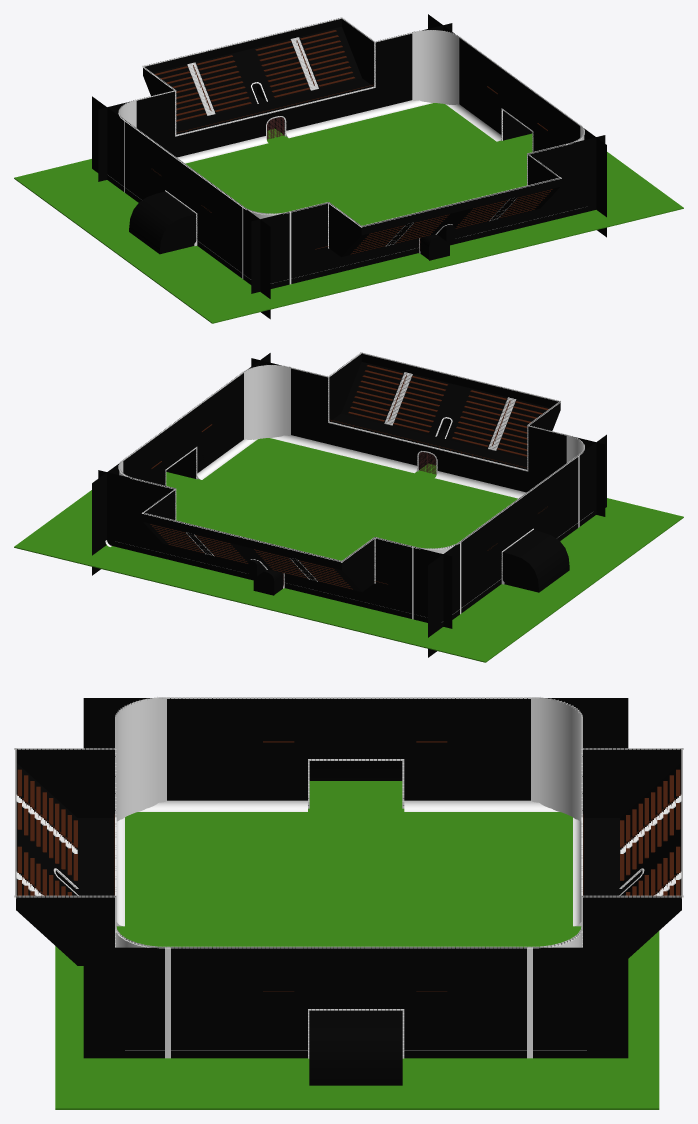
File: Map43Full.FBX
3 views of the same model, one above another, from view 1: azimuth 30°, elevation 25°; view 2: azimuth 150°, elevation 25°; view 3: azimuth 270°, elevation 25° (orthographic). The views are drawn at different scales.
Visible parts, largest first — view 1: Ground, Stands1, Stands2, Goal2, Goal1; view 2: Ground, Stands2, Stands1, Goal2, Goal1; view 3: Ground, Goal1, Goal2, Stands2, Stands1.
Boxes of the visible parts, <box> form: Ground: <box>14,103,683,323</box>; Stands1: <box>98,17,461,192</box>; Stands2: <box>241,123,605,293</box>; Goal2: <box>92,96,270,319</box>; Goal1: <box>428,14,606,237</box>; Ground: <box>14,438,683,662</box>; Stands2: <box>242,352,605,527</box>; Stands1: <box>98,458,461,628</box>; Goal2: <box>428,434,606,657</box>; Goal1: <box>92,353,270,575</box>; Ground: <box>55,781,659,1109</box>; Goal1: <box>83,946,628,1085</box>; Goal2: <box>83,697,628,811</box>; Stands2: <box>14,697,170,1058</box>; Stands1: <box>527,697,683,1058</box>.
Bounding box in the file's own units: 533 × 101 × 431.
